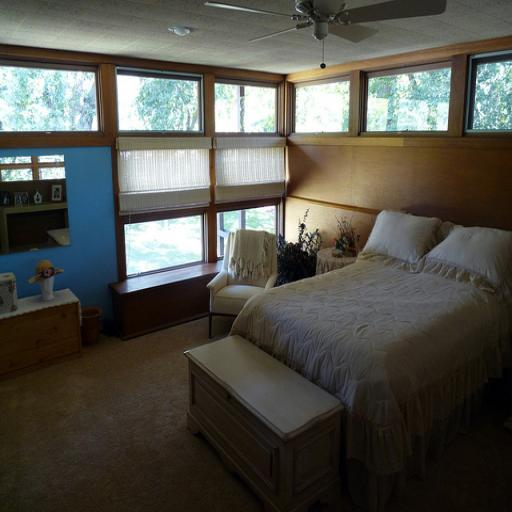bed: (186, 206, 512, 512)
